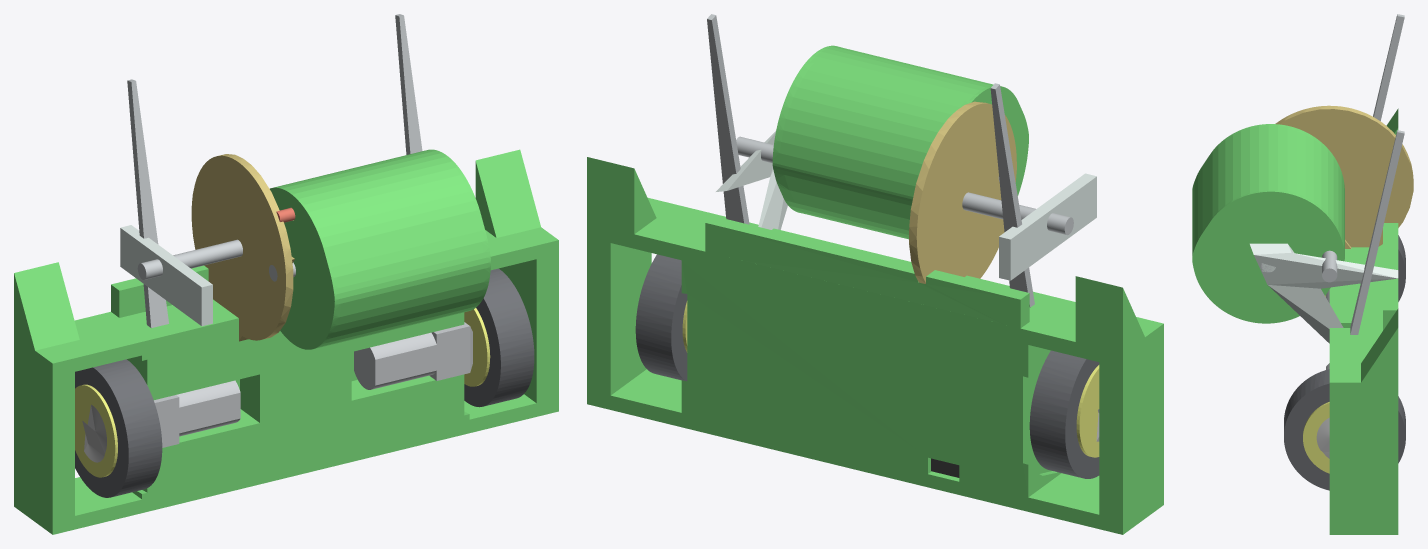
The model's file is grandmaster_smash.glb.
The picture shows the model from 3 angles, left to right: view 1: azimuth 30°, elevation 25°; view 2: azimuth 150°, elevation 25°; view 3: azimuth 270°, elevation 25°; orthographic projection. The views are drawn at different scales.
Parts seen in each view (by area): view 1: chassis, weapon, flywheel, endcap_r, wheel_r0, endcap_l, wheel_l0, dm_wheel_l0, end_wedge_r, end_wedge_l, upright_a, dm_wheel_r0 (+7 smaller); view 2: chassis, weapon, flywheel, weapon_rail, endcap_r, endcap_l, wheel_r0, wheel_l0, upright_a, end_wedge_r, end_wedge_l, fork_1 (+4 smaller); view 3: weapon, endcap_l, flywheel, upright_b, chassis, wheel_l0, end_wedge_l, fork_1, weapon_rail, hub_l, fork_0, weapon_shaft (+2 smaller).
Part boxes in pixels (bbox=[...]): chassis: bbox=[57, 230, 536, 529]; weapon: bbox=[270, 149, 490, 349]; flywheel: bbox=[191, 154, 294, 341]; endcap_r: bbox=[14, 335, 74, 534]; wheel_r0: bbox=[75, 359, 162, 497]; endcap_l: bbox=[499, 227, 558, 416]; wheel_l0: bbox=[464, 268, 534, 407]; dm_wheel_l0: bbox=[354, 322, 472, 389]; end_wedge_r: bbox=[14, 262, 79, 350]; end_wedge_l: bbox=[475, 149, 540, 237]; upright_a: bbox=[120, 225, 212, 326]; dm_wheel_r0: bbox=[154, 380, 240, 447]; chassis: bbox=[610, 198, 1139, 528]; weapon: bbox=[772, 45, 1028, 239]; flywheel: bbox=[909, 101, 1016, 283]; weapon_rail: bbox=[705, 216, 1029, 328]; endcap_r: bbox=[1099, 318, 1163, 534]; endcap_l: bbox=[587, 198, 651, 409]; wheel_r0: bbox=[1029, 350, 1099, 478]; wheel_l0: bbox=[635, 254, 687, 381]; upright_a: bbox=[999, 173, 1096, 280]; end_wedge_r: bbox=[1075, 276, 1144, 361]; end_wedge_l: bbox=[587, 157, 656, 242]; fork_1: bbox=[707, 14, 749, 224]; weapon: bbox=[1192, 124, 1344, 323]; endcap_l: bbox=[1329, 373, 1398, 534]; flywheel: bbox=[1275, 105, 1413, 248]; upright_b: bbox=[1250, 243, 1398, 343]; chassis: bbox=[1329, 244, 1382, 372]; wheel_l0: bbox=[1284, 369, 1405, 490]; end_wedge_l: bbox=[1356, 308, 1398, 389]; fork_1: bbox=[1350, 130, 1404, 334]; weapon_rail: bbox=[1383, 223, 1398, 330]; hub_l: bbox=[1303, 402, 1329, 473]; fork_0: bbox=[1373, 14, 1404, 120]; weapon_shaft: bbox=[1322, 250, 1337, 282].
Size of the model in its own units: 136 by 102 by 58.05.
